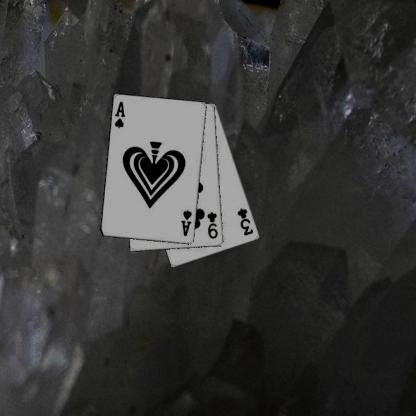3C: (235, 206, 255, 237)
9C: (205, 209, 219, 240)
AS: (112, 99, 126, 130), (179, 207, 193, 237)
